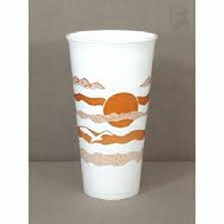paper_cup: (60, 22, 162, 203)
